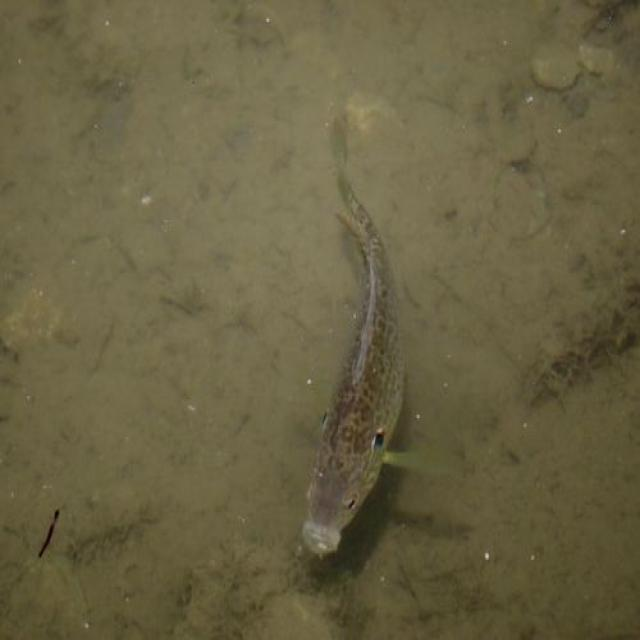Gunes Levregi: (301, 116, 450, 568)
